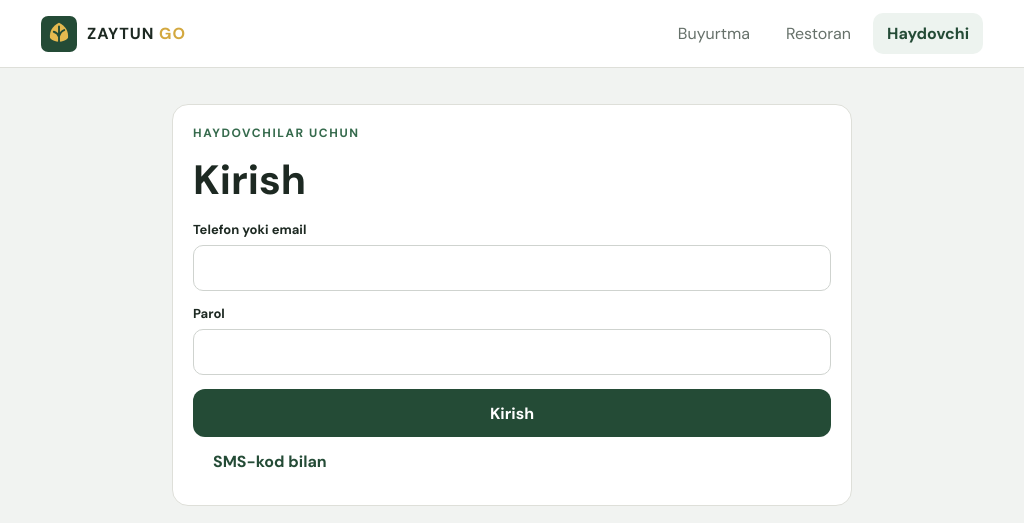
it: driver phone-OTP login flow (UI, /driver) › E: an unrecognized phone is refused via otp_disabled before any code is ever sent -- never becomes a DRIVER
Click the button with test id "driver-otp-switch" at (270, 461), box [193,437,347,485]
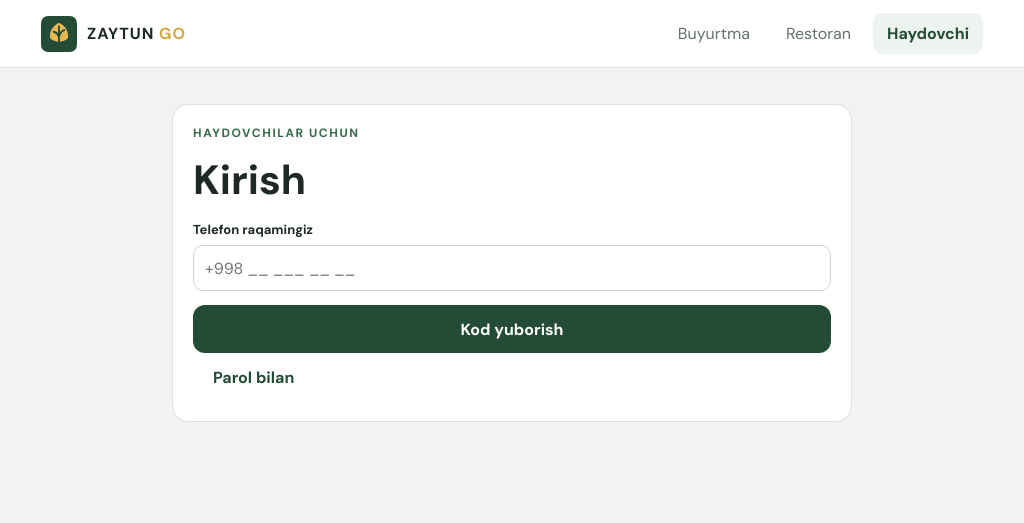
Type "901234567" into the field labelled "Telefon raqamingiz" at (512, 268), box [193,245,831,291]
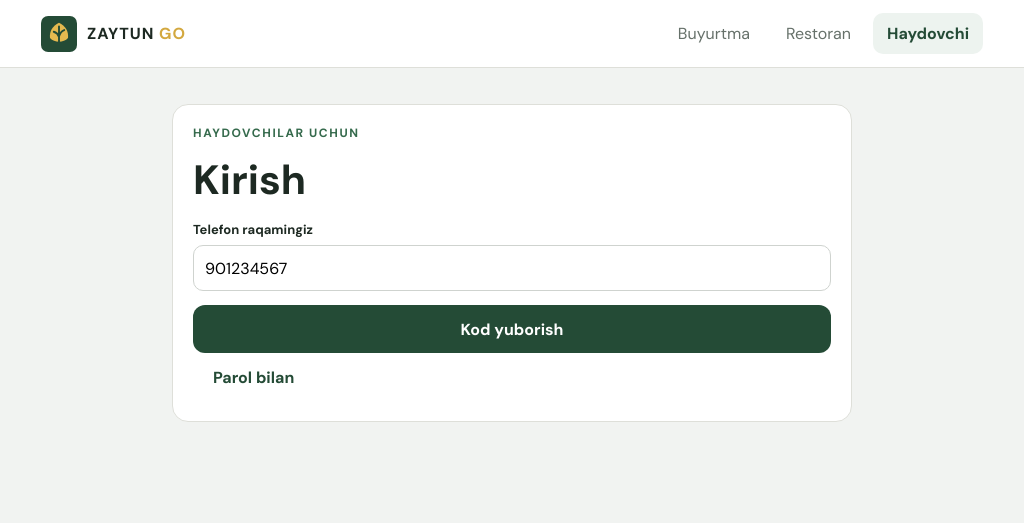
Click the button "Kod yuborish" at (512, 329), box [193,305,831,353]
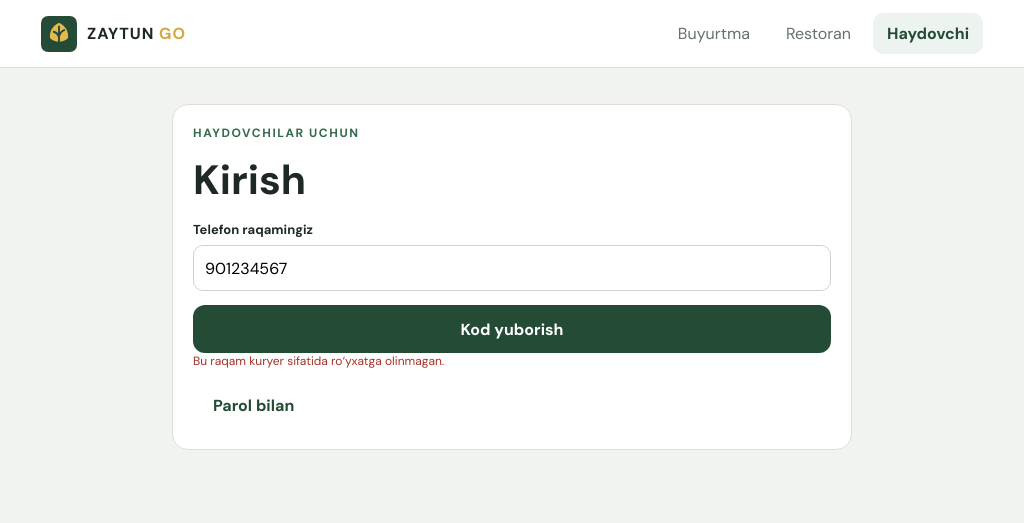
Check: the message with test id "driver-otp-error" reads "Bu raqam kuryer sifatida ro‘yxatga olinmagan.", box [193,353,444,369]
